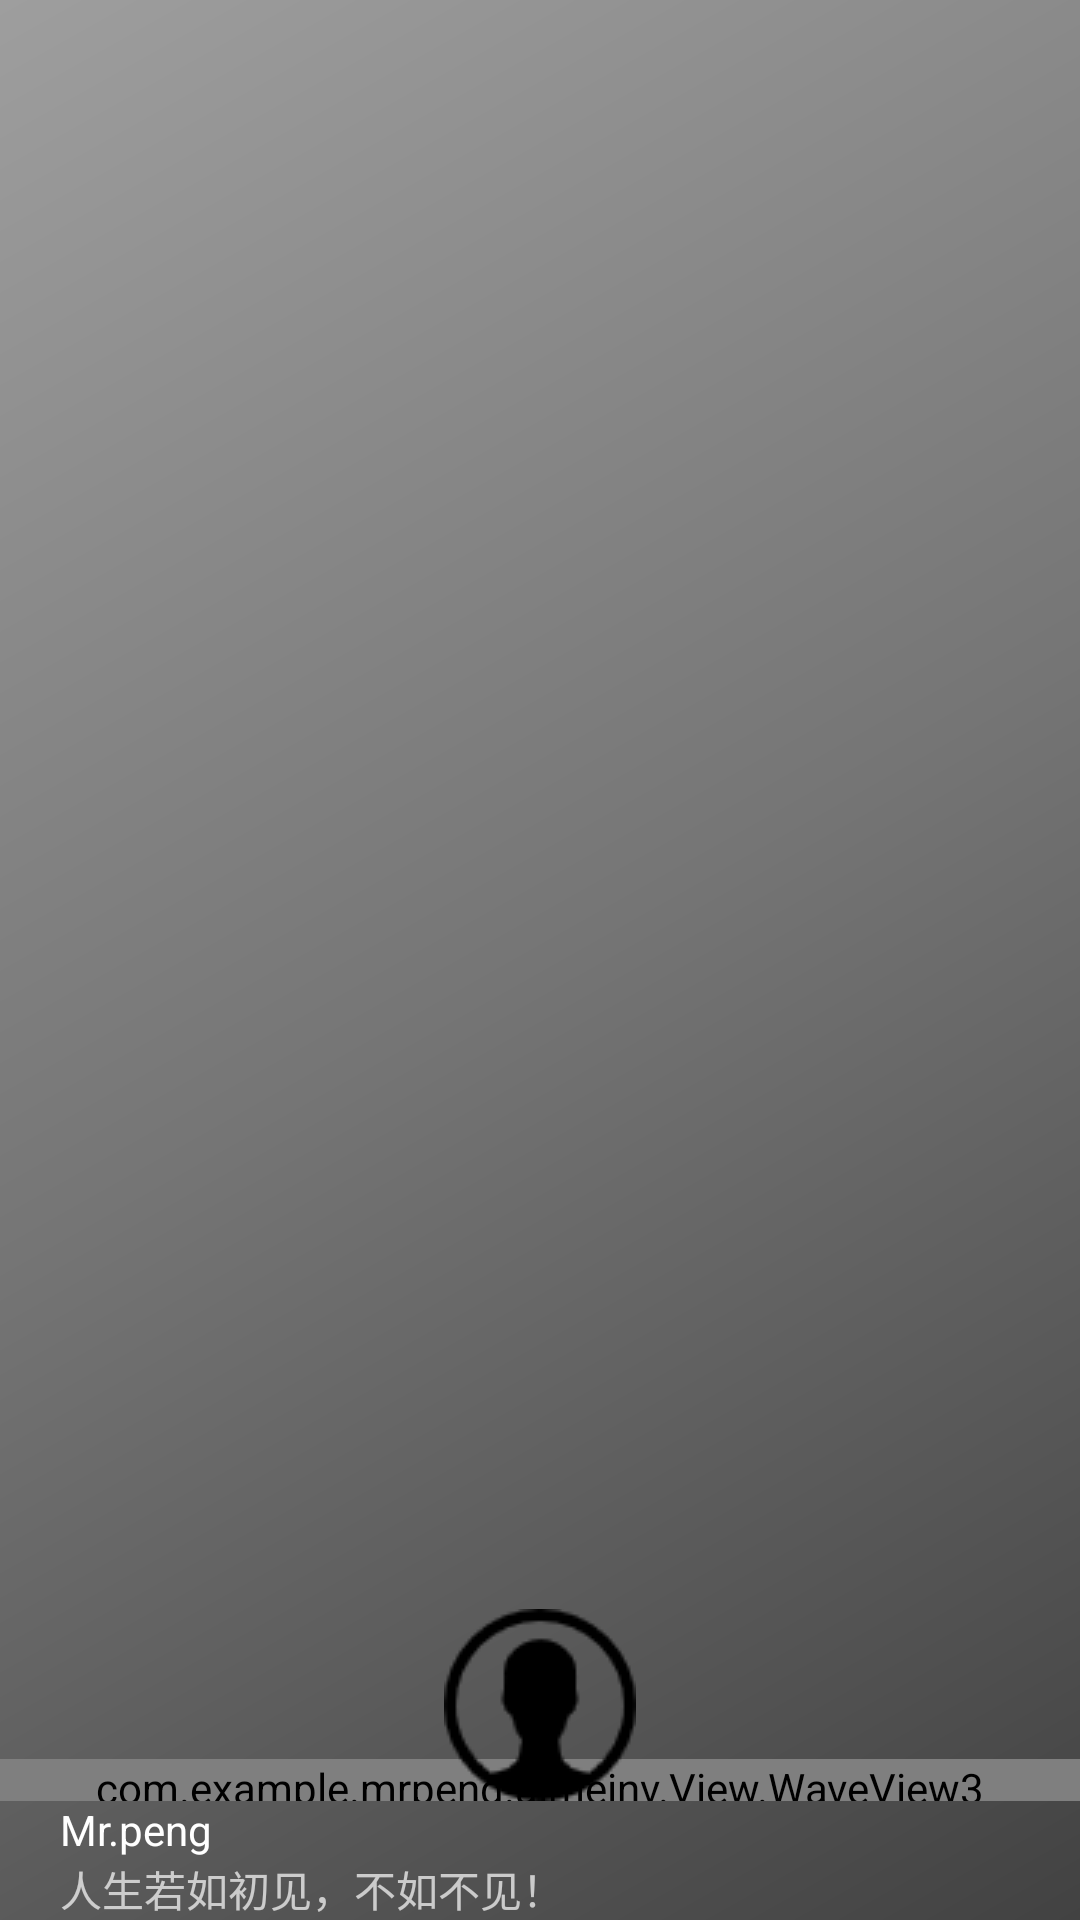

Named icons in this screenshot (1080×1920) and their centers, (x=x, y=y):
touxiang: (x=540, y=1705)
